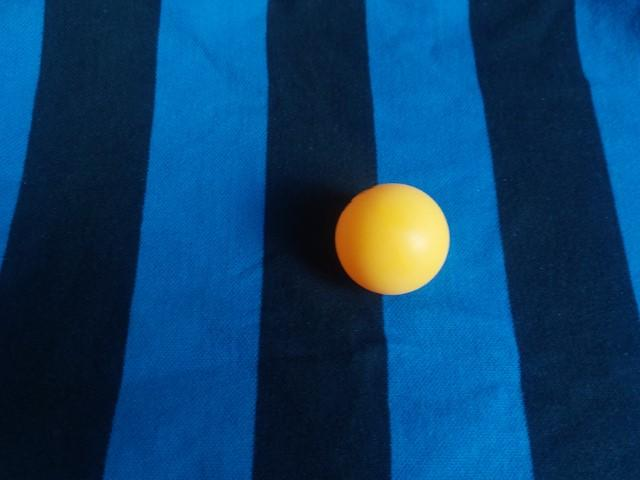oball: (180, 177, 310, 310)
